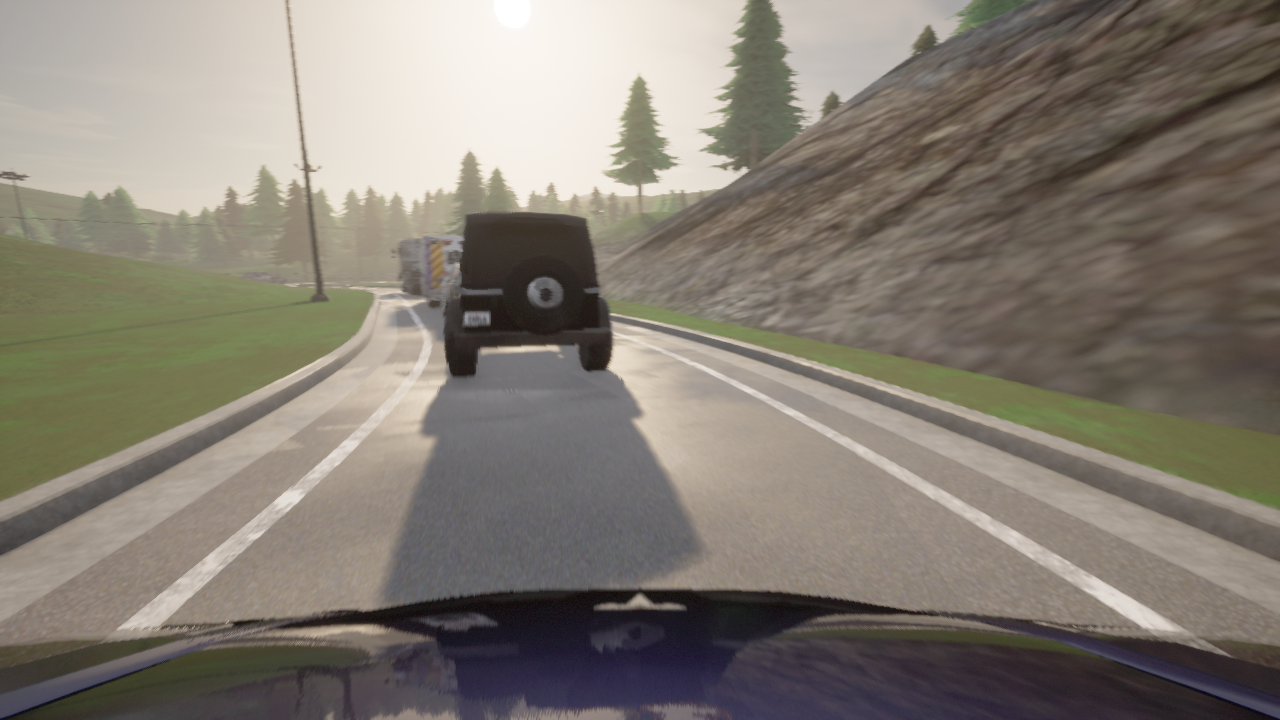cyclist: (0, 588, 1279, 719), (444, 211, 612, 377), (414, 235, 463, 307), (391, 239, 423, 295), (433, 262, 461, 316), (238, 272, 285, 283)
